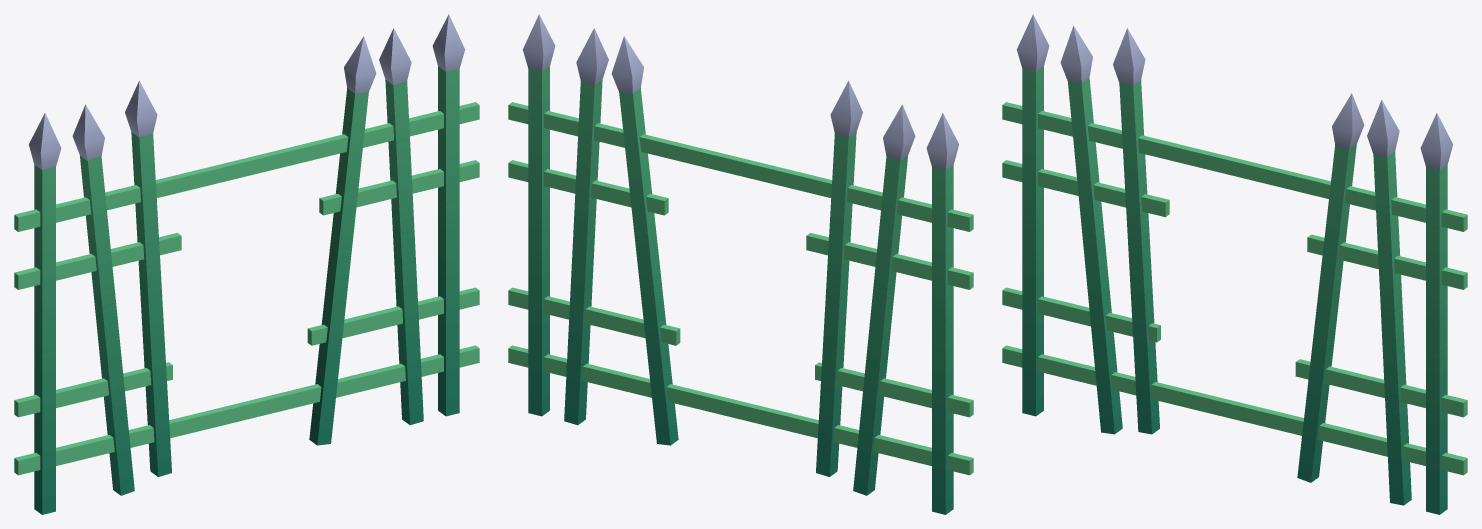
File: iron-fence-damaged.glb
The picture shows the model from 3 angles, left to right: view 1: azimuth 30°, elevation 25°; view 2: azimuth 150°, elevation 25°; view 3: azimuth 330°, elevation 25°; orthographic projection.
Parts seen in each view (by area): view 1: Asset3DLoader.sceneRoot; view 2: Asset3DLoader.sceneRoot; view 3: Asset3DLoader.sceneRoot.
Part boxes in pixels (x1,y1,x2,y2): Asset3DLoader.sceneRoot: [14, 14, 479, 514]; Asset3DLoader.sceneRoot: [508, 14, 973, 514]; Asset3DLoader.sceneRoot: [1002, 14, 1467, 514].
Size of the model in its own units: 1 by 0.8433 by 0.045.
Materials: 1 (1 with a texture image).
